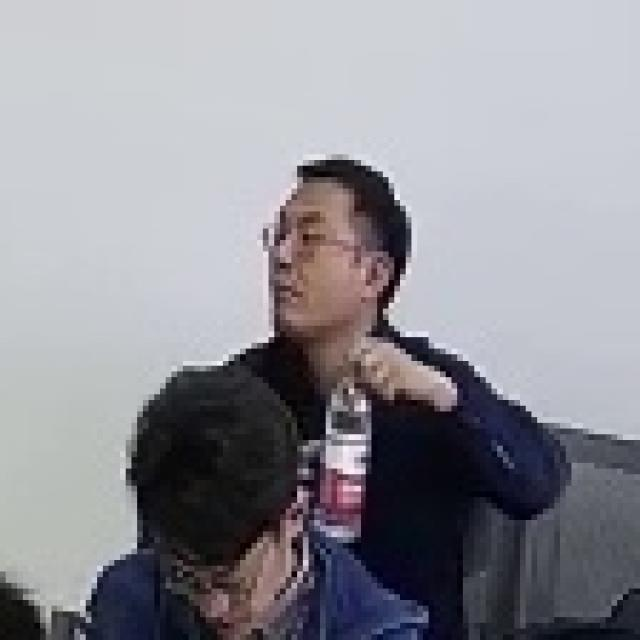drink: (232, 154, 502, 640)
trance: (100, 363, 351, 640)
